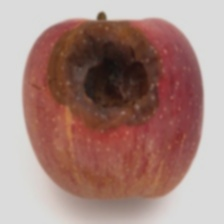apple: (7, 18, 185, 186)
